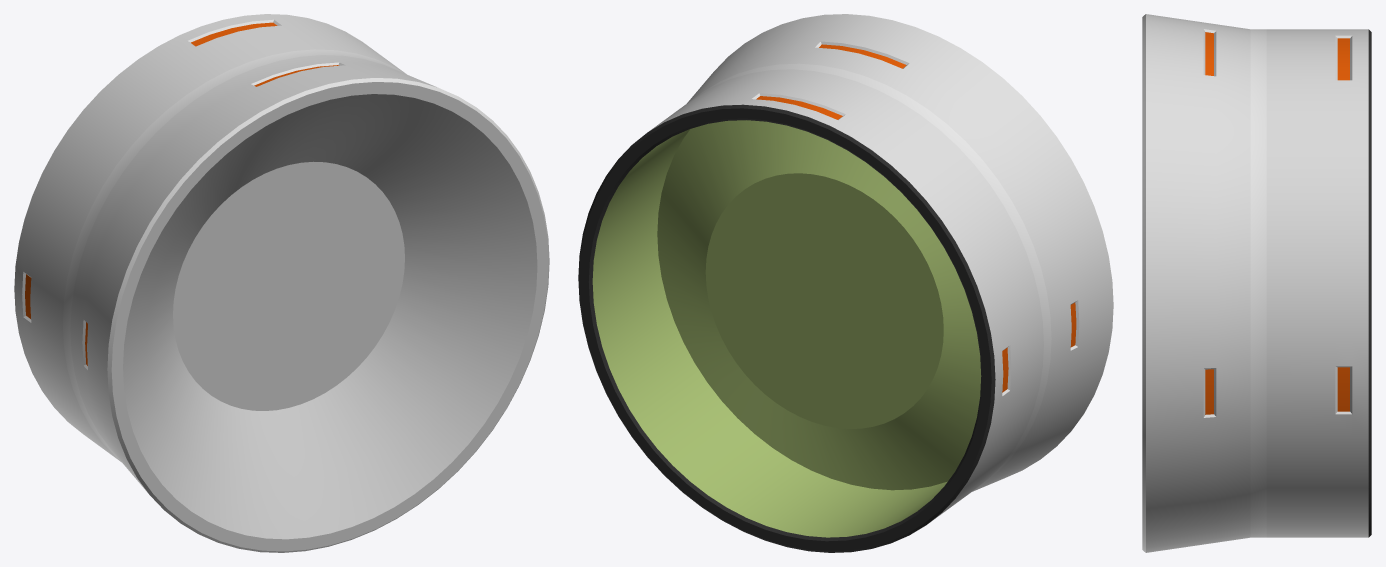
File: OrionStageAdapter.fbx
3 views of the same model, side by side, from view 1: azimuth 30°, elevation 25°; view 2: azimuth 150°, elevation 25°; view 3: azimuth 270°, elevation 25° (orthographic). The views are drawn at different scales.
Parts seen in each view (by area): view 1: pCylinder30; view 2: pCylinder30; view 3: pCylinder30.
Boxes of the visible parts, left/top/right/bottom form: pCylinder30: left=14, top=14, right=549, bottom=552; pCylinder30: left=578, top=14, right=1113, bottom=552; pCylinder30: left=1142, top=14, right=1371, bottom=552.
Bounding box in the file's own units: 2.47 × 2.47 × 1.05.
